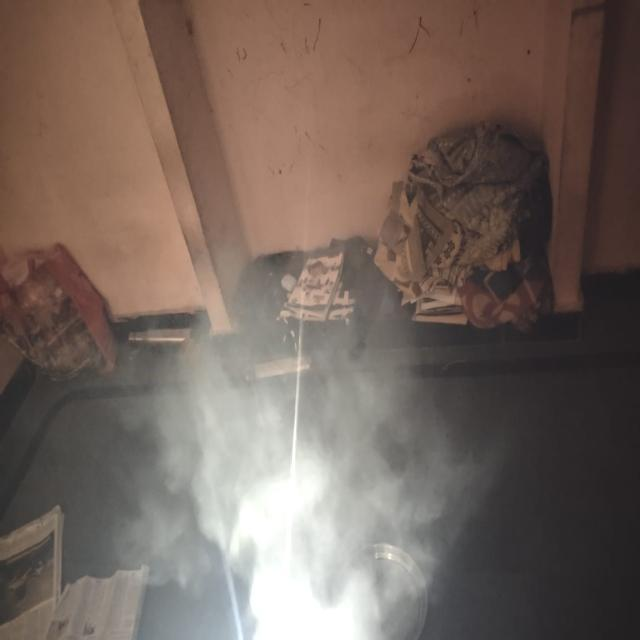fire: (105, 288, 472, 634)
